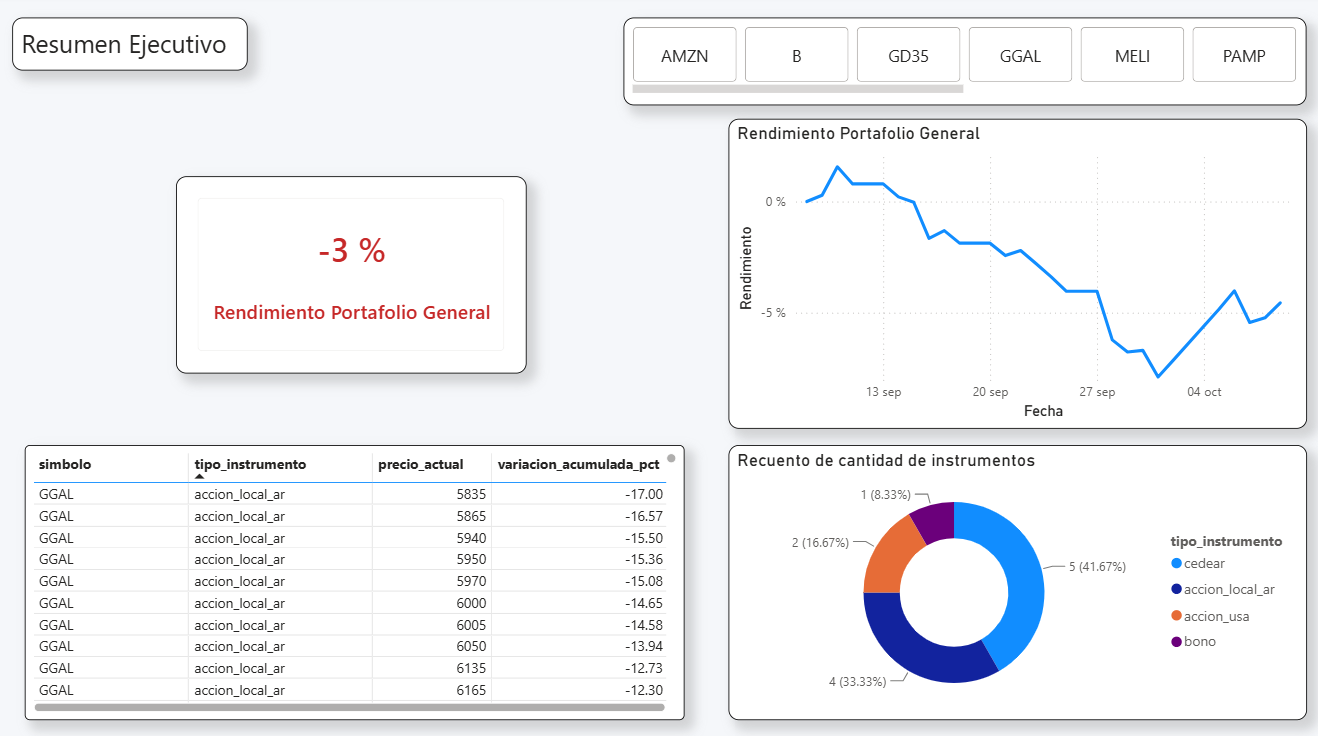

This screenshot's page, from the dashboard's own definition file:
{"tool":"powerbi","page":{"name":"Resumen Ejecutivo","canvas":[1280,720],"ordinal":0},"visuals":[{"type":"cardVisual","title":" ","fields":{"Data":["Mi_portafolio_historico.Rendimiento Portafolio"]},"box":[173.3,174.6,338.5,190.7],"z":0},{"type":"advancedSlicerVisual","fields":{"Values":["Mi_portafolio_historico.simbolo"]},"box":[605.8,21.5,659.5,84.6],"z":1000},{"type":"lineChart","fields":{"Category":["Calendario.Fecha"],"Y":["Mi_portafolio_historico.Rendimiento Portafolio"]},"box":[706.5,119.5,558.7,299.5],"z":2000},{"type":"donutChart","title":"Recuento de cantidad de instrumentos","fields":{"Y":["CountNonNull(Mi_Portafolio_Manual.cantidad)"],"Category":["Mi_Portafolio_Manual.tipo_instrumento"]},"box":[706.5,433.8,558.7,265.9],"z":3000},{"type":"textbox","box":[16.1,21.5,227,51],"z":4000},{"type":"tableEx","fields":{"Values":["Mi_portafolio_historico.simbolo","Mi_portafolio_historico.tipo_instrumento","Mi_portafolio_historico.precio_actual","Mi_portafolio_historico.variacion_acumulada_pct"]},"box":[28.2,433.8,636.6,265.9],"z":5000}]}

Visuals, with their boxes in screenshot pixels (x1, y1, x2, y2), scaled from the page's 1280x720 canvas onto the 1318x736 screenshot:
" " cardVisual: bbox=(178, 178, 527, 373)
advancedSlicerVisual - Mi_portafolio_historico.simbolo: bbox=(624, 22, 1303, 108)
lineChart - Calendario.Fecha x Mi_portafolio_historico.Rendimiento Portafolio: bbox=(727, 122, 1303, 428)
"Recuento de cantidad de instrumentos" donutChart: bbox=(727, 443, 1303, 715)
textbox: bbox=(17, 22, 250, 74)
tableEx - Mi_portafolio_historico.simbolo x Mi_portafolio_historico.tipo_instrumento: bbox=(29, 443, 685, 715)
